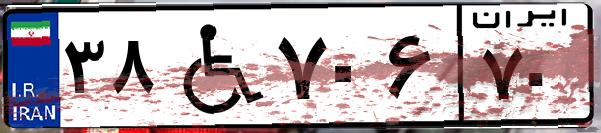0: (330, 28, 385, 110), (525, 38, 570, 115)
3: (57, 26, 110, 100)
6: (385, 28, 445, 110)
7: (270, 28, 330, 110), (475, 38, 525, 113)
8: (110, 28, 158, 98)
ژ (معلولین و جانبازان): (158, 12, 270, 120)
